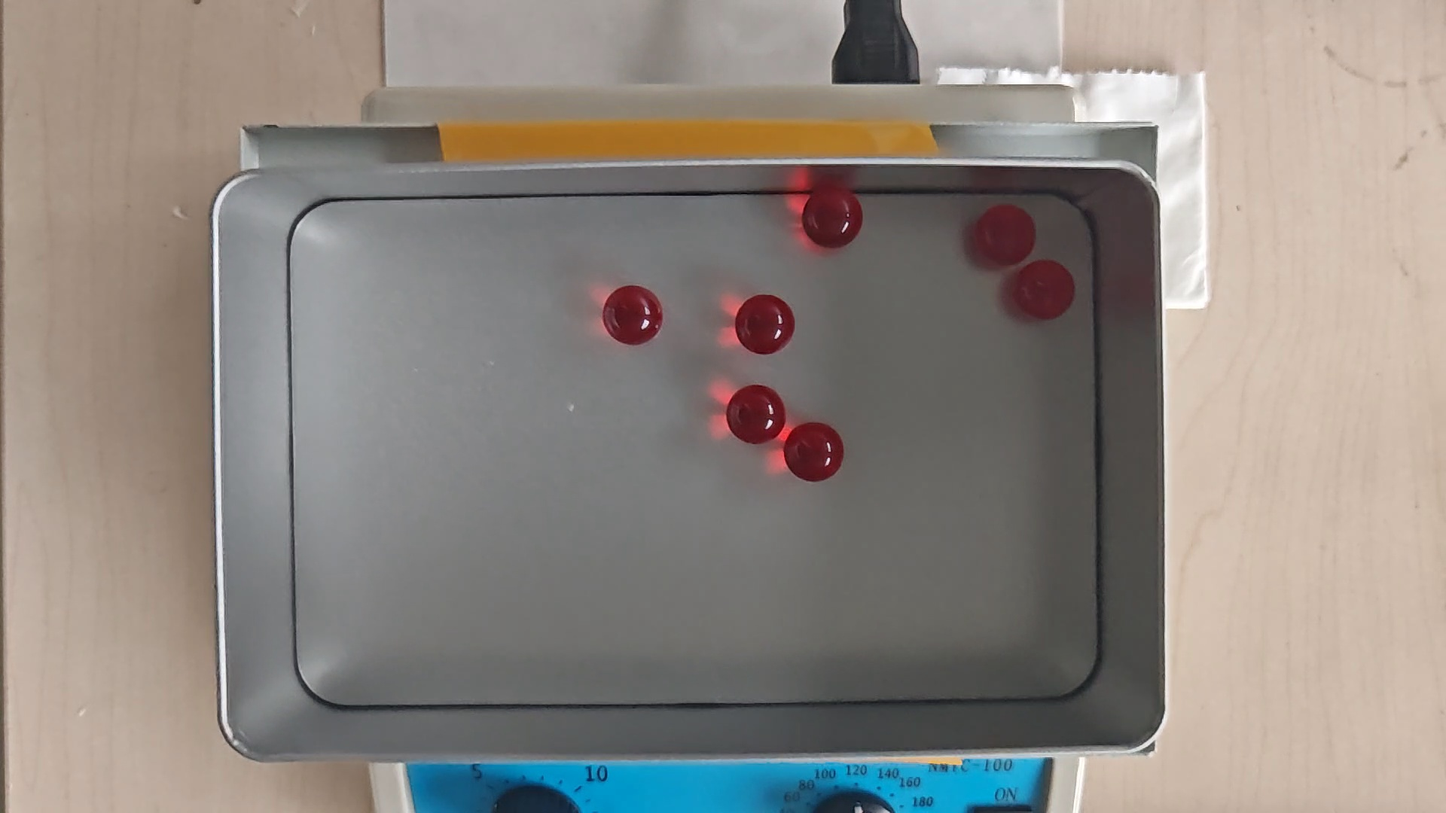ball: (725, 385, 787, 448), (734, 294, 796, 355), (1014, 260, 1076, 321), (602, 285, 663, 346), (784, 422, 843, 483), (977, 204, 1036, 265), (803, 191, 863, 248)
container: (286, 192, 1101, 705)
